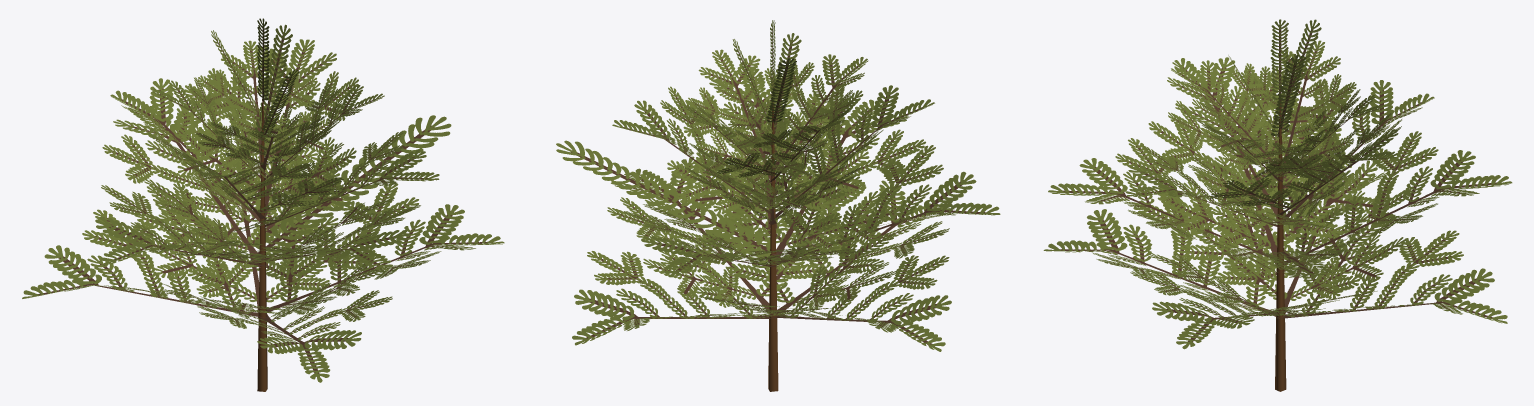
The model's file is Young_Fir_Tree_2.fbx.
The picture shows the model from 3 angles, left to right: view 1: azimuth 30°, elevation 25°; view 2: azimuth 150°, elevation 25°; view 3: azimuth 270°, elevation 25°; orthographic projection.
Visible parts, largest first — view 1: Young_Fir_Tree_2; view 2: Young_Fir_Tree_2; view 3: Young_Fir_Tree_2.
Boxes of the visible parts, x1=… form: Young_Fir_Tree_2: x1=22, y1=18, x2=504, y2=391; Young_Fir_Tree_2: x1=556, y1=20, x2=1000, y2=391; Young_Fir_Tree_2: x1=1043, y1=19, x2=1512, y2=391.
Bounding box in the file's own units: 117 × 99.93 × 118.
Materials: 2 (2 with a texture image).
